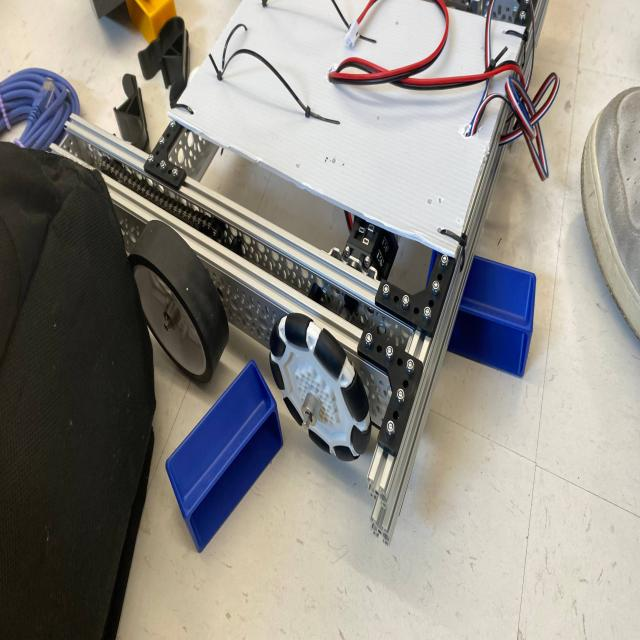blue-specimen: (166, 360, 283, 551), (448, 256, 536, 377), (426, 250, 438, 288)
yellow-specimen: (126, 0, 176, 43)
